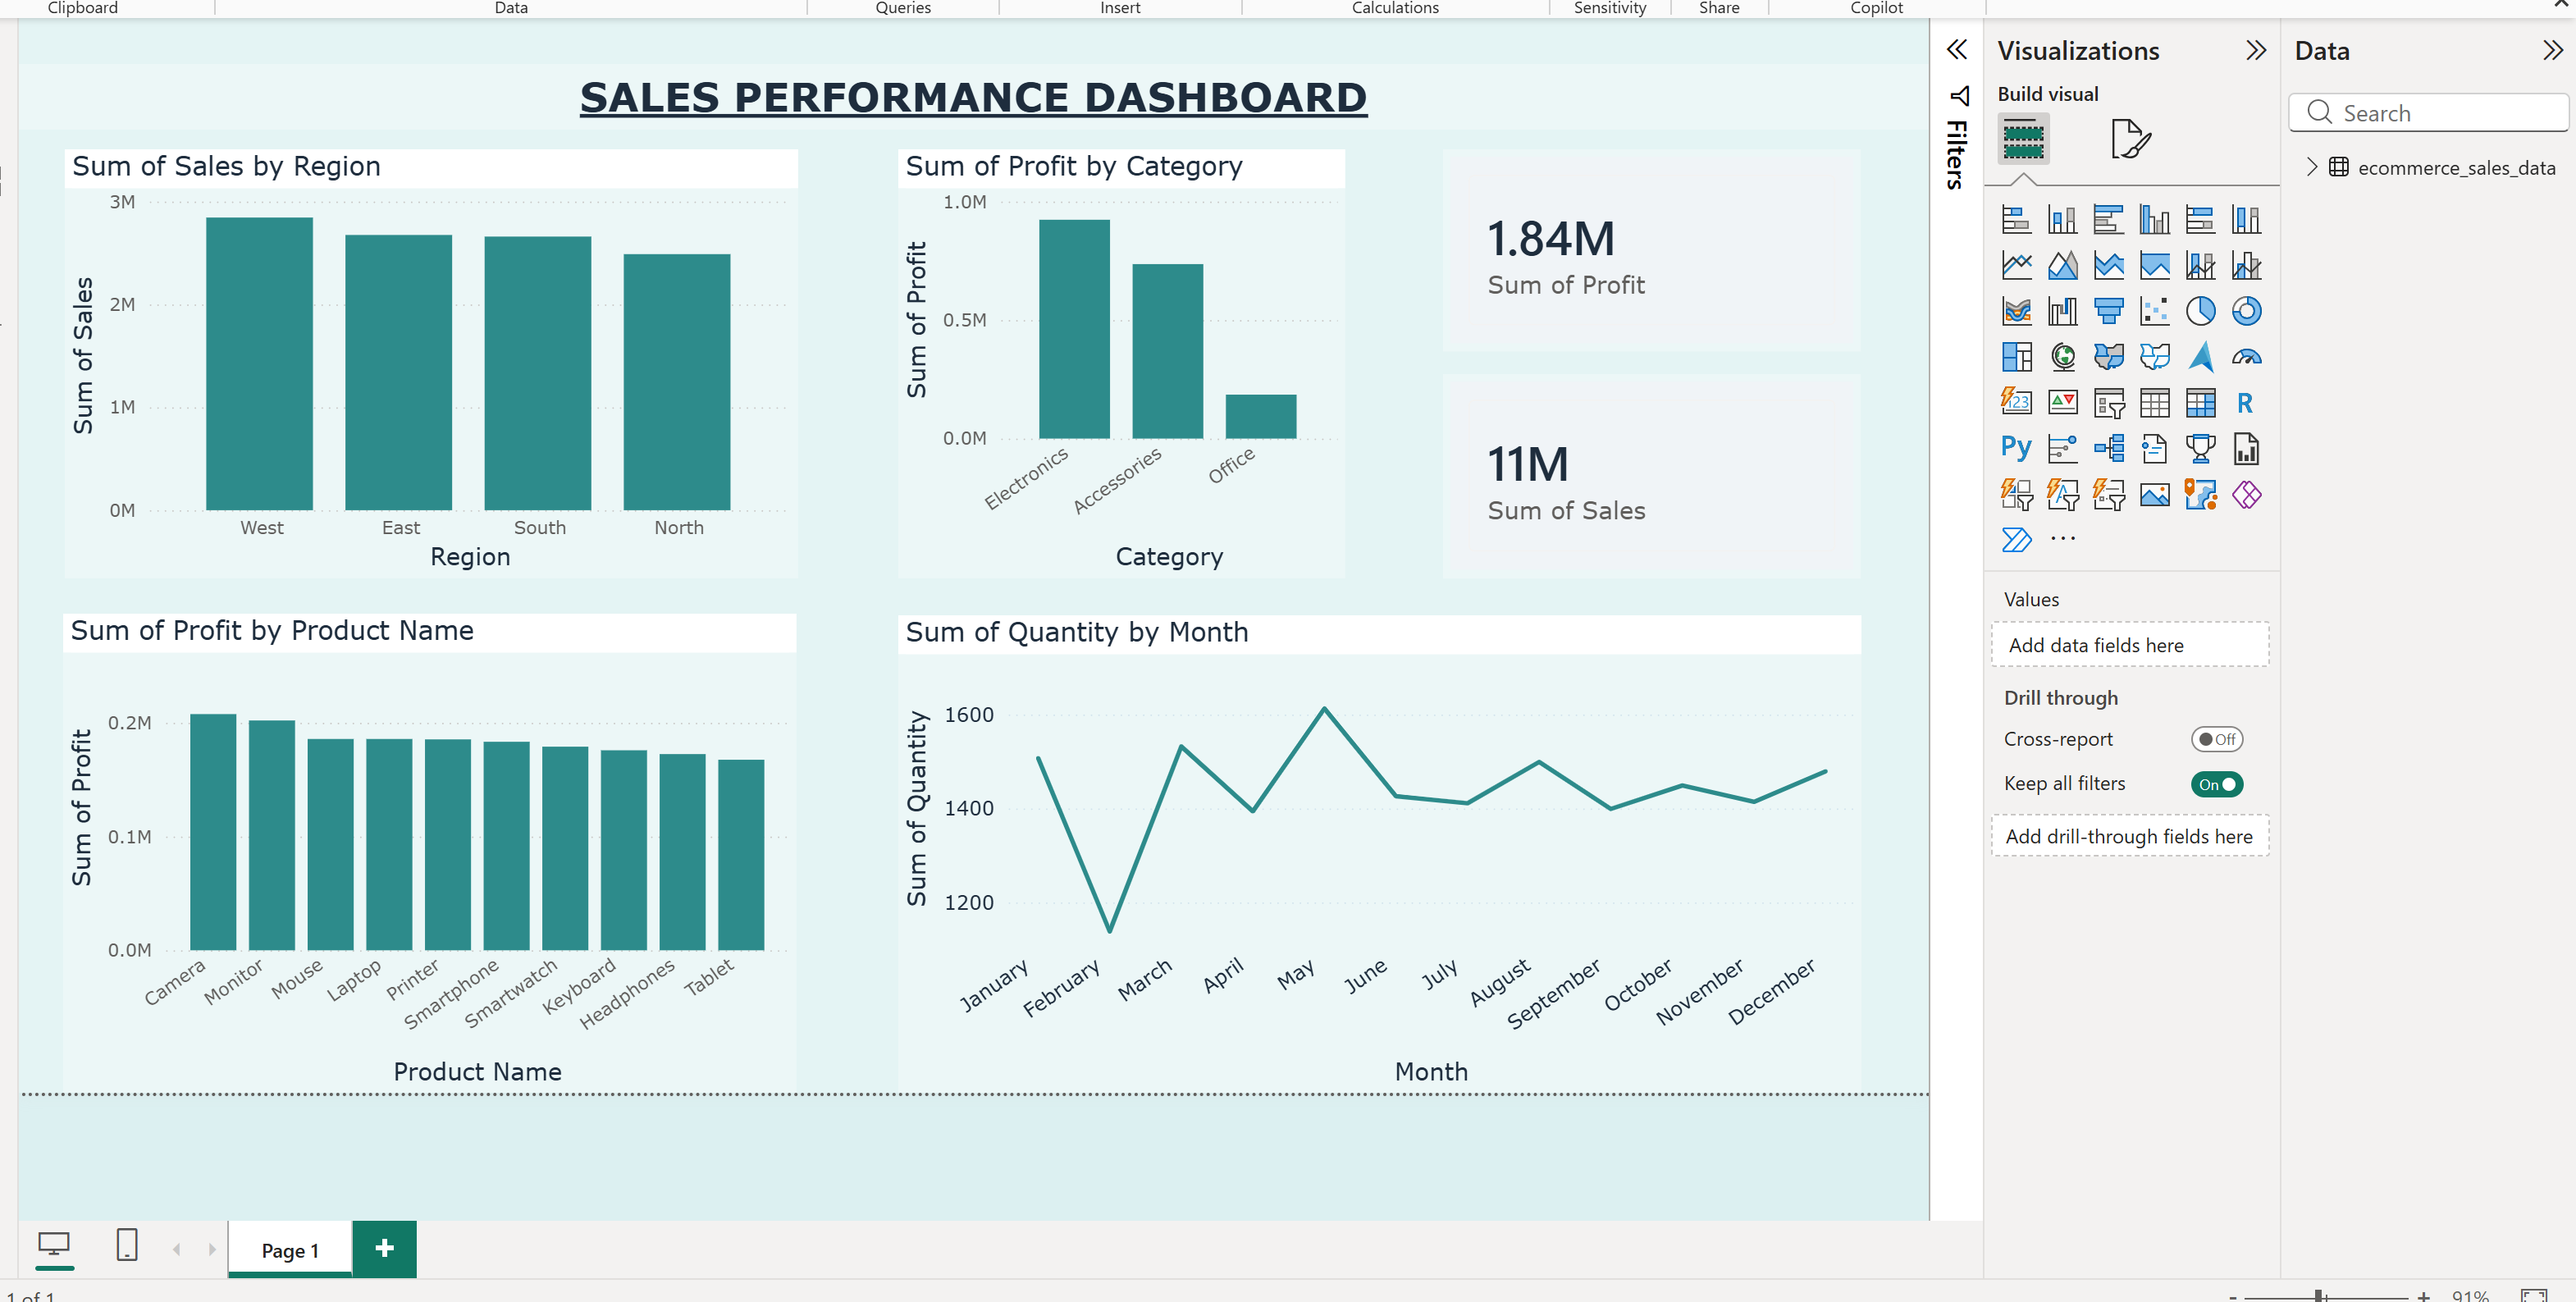

What the dashboard file says about the page in this screenshot:
{"tool":"powerbi","page":{"name":"Page 1","canvas":[1280,720],"ordinal":0},"visuals":[{"type":"cardVisual","fields":{"Data":["Sum(ecommerce_sales_data.Sales)"]},"box":[955,238.5,280,137],"z":0},{"type":"cardVisual","fields":{"Data":["Sum(ecommerce_sales_data.Profit)"]},"box":[955,88,280,135.7],"z":1000},{"type":"columnChart","fields":{"Y":["Sum(ecommerce_sales_data.Sales)"],"Category":["ecommerce_sales_data.Region"]},"box":[30.6,88,491.6,287.4],"z":2000},{"type":"columnChart","fields":{"Category":["ecommerce_sales_data.Product Name"],"Y":["Sum(ecommerce_sales_data.Profit)"]},"box":[30.2,399.3,491.3,321.1],"z":3000},{"type":"textbox","box":[0,30.6,1280.3,44],"z":4000},{"type":"lineChart","fields":{"Category":["ecommerce_sales_data.Order Date.Variation.Date Hierarchy.Month"],"Y":["Sum(ecommerce_sales_data.Quantity)"]},"box":[589.4,399.9,645.7,320.4],"z":5000},{"type":"columnChart","fields":{"Category":["ecommerce_sales_data.Category"],"Y":["Sum(ecommerce_sales_data.Profit)"]},"box":[589.4,88,299.6,287.4],"z":6000}]}

Visuals, with their boxes on the page's 1280x720 design canvas (x1, y1, x2, y2). These are canvas units, not pixel positions in the 2576x1302 screenshot, which may show the page scaled, cropped or inside an application window:
cardVisual - Sum(ecommerce_sales_data.Sales): [955,238,1235,376]
cardVisual - Sum(ecommerce_sales_data.Profit): [955,88,1235,224]
columnChart - Sum(ecommerce_sales_data.Sales) x ecommerce_sales_data.Region: [31,88,522,375]
columnChart - ecommerce_sales_data.Product Name x Sum(ecommerce_sales_data.Profit): [30,399,522,720]
textbox: [0,31,1280,75]
lineChart - ecommerce_sales_data.Order Date.Variation.Date Hierarchy.Month x Sum(ecommerce_sales_data.Quantity): [589,400,1235,720]
columnChart - ecommerce_sales_data.Category x Sum(ecommerce_sales_data.Profit): [589,88,889,375]
